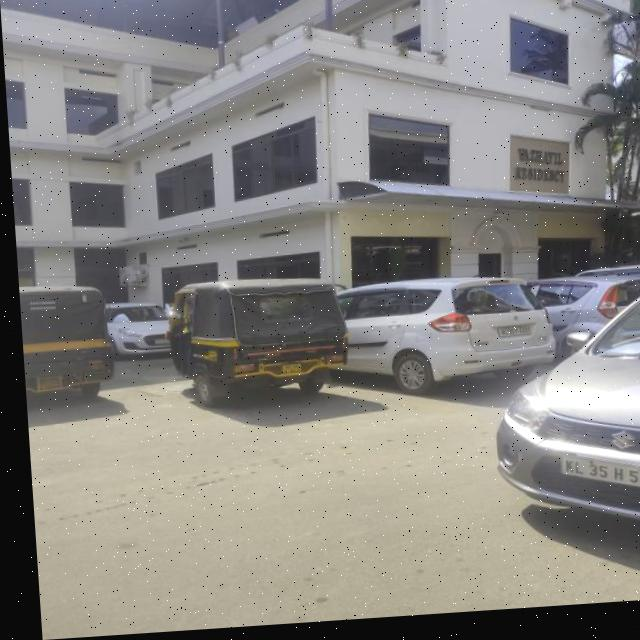plate: (551, 454, 640, 507), (490, 329, 532, 348), (27, 371, 60, 391), (272, 361, 300, 379)
